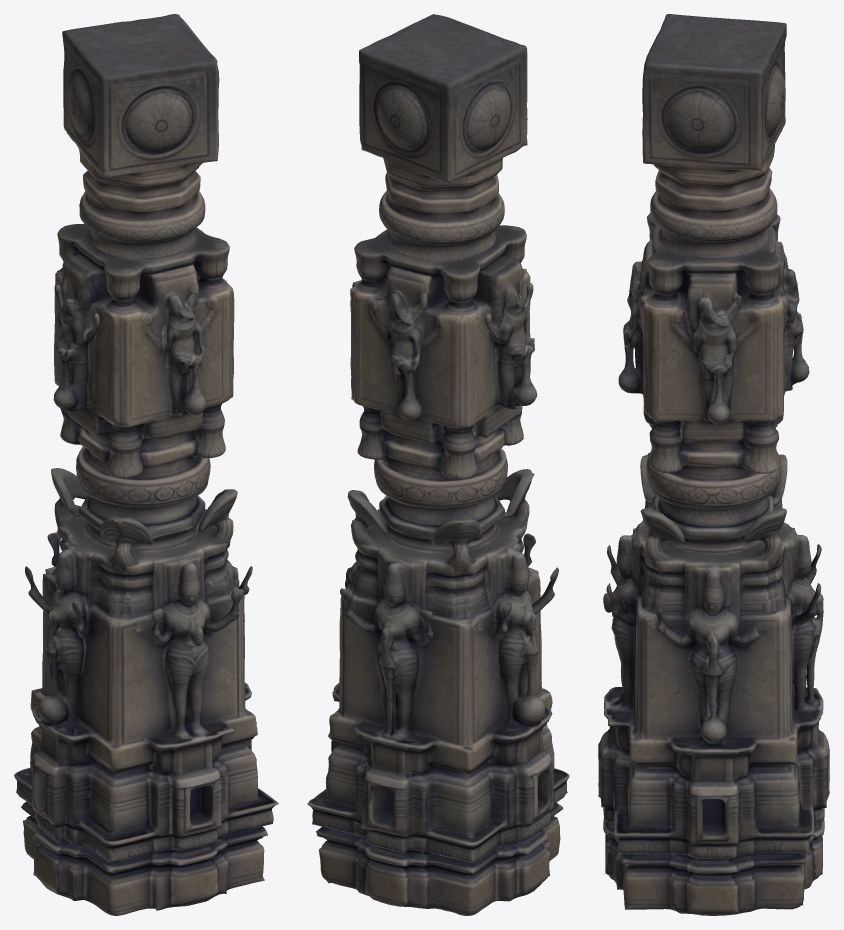
The model's file is Pillar.glb.
3 renders of one model, left to right at view 1: azimuth 30°, elevation 25°; view 2: azimuth 150°, elevation 25°; view 3: azimuth 270°, elevation 25°, orthographic.
Visible parts, largest first — view 1: tripo_node_a1437416; view 2: tripo_node_a1437416; view 3: tripo_node_a1437416.
Part boxes in pixels (x1=…): tripo_node_a1437416: x1=14, y1=14, x2=278, y2=915; tripo_node_a1437416: x1=307, y1=14, x2=569, y2=915; tripo_node_a1437416: x1=598, y1=14, x2=829, y2=915.
Size of the model in its own units: 2.37 by 9.09 by 2.3.
1 material, 1 textured.
